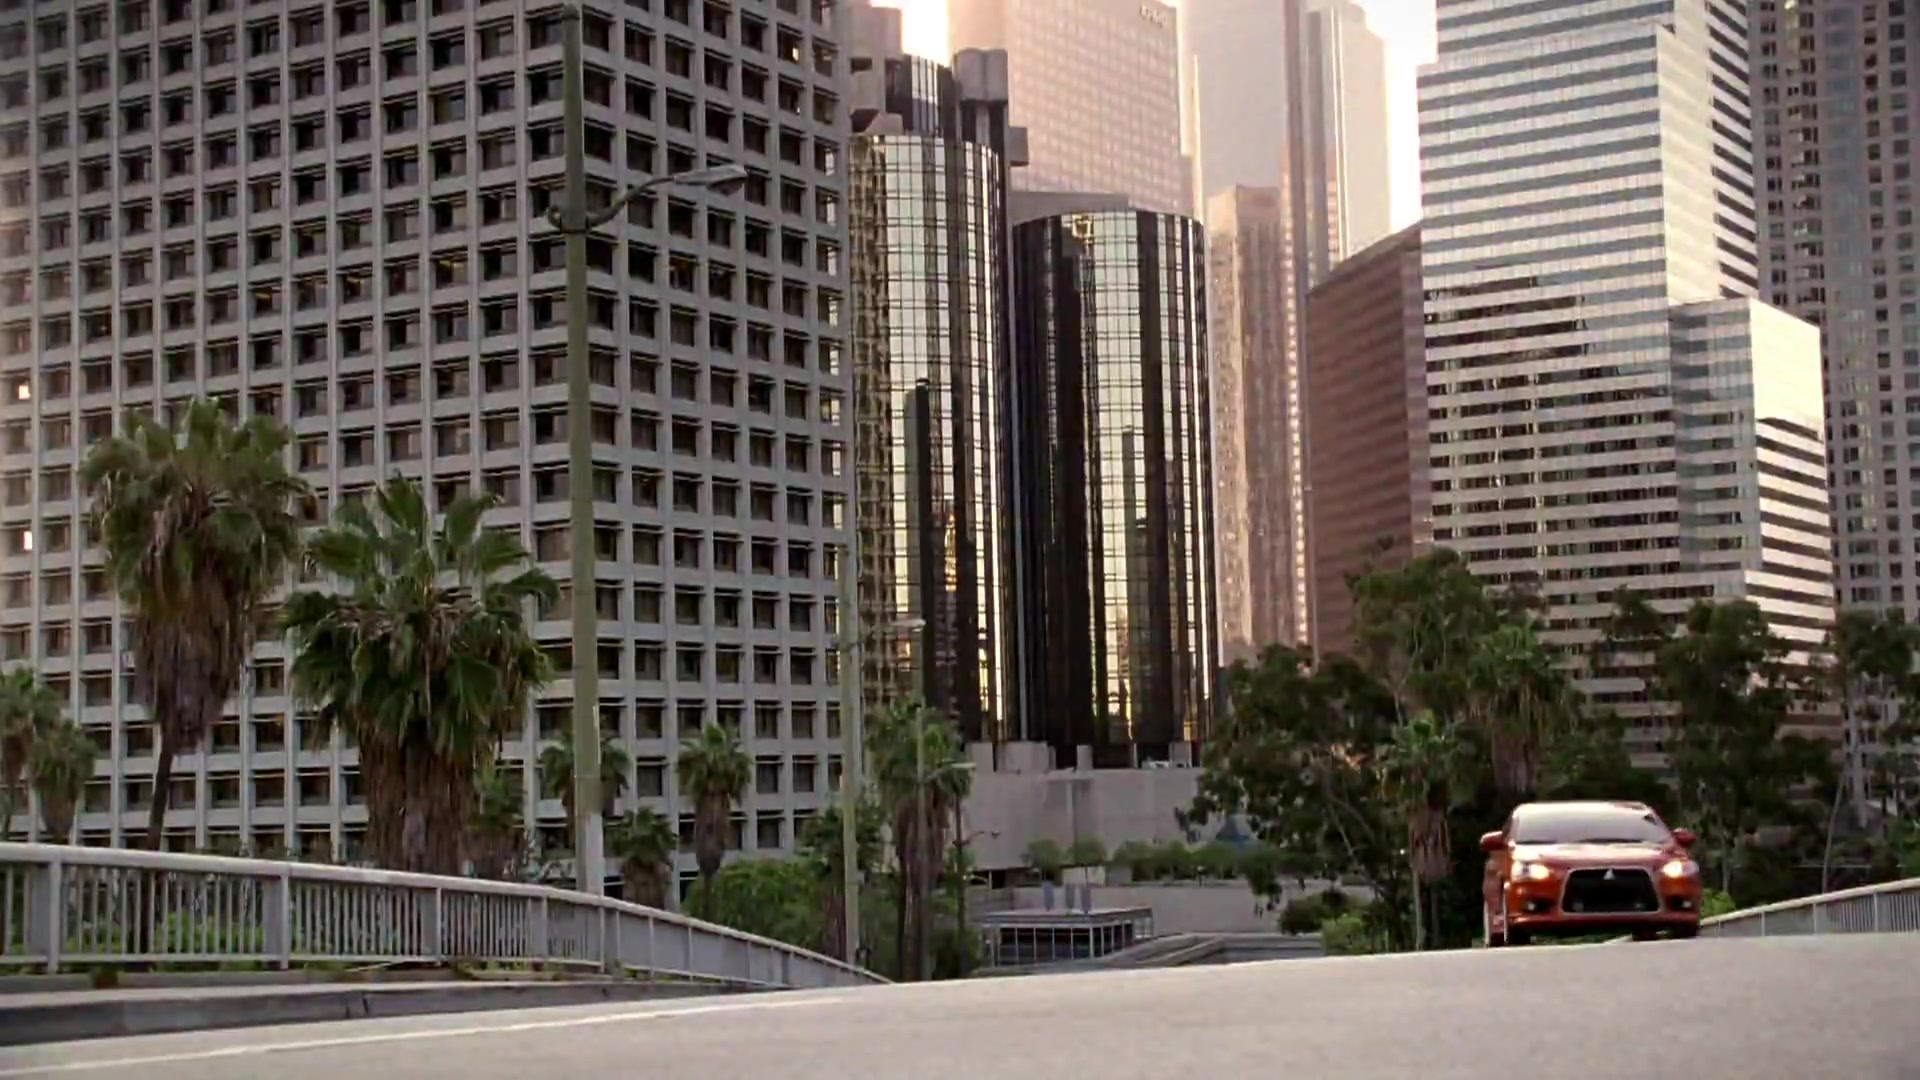car: (1472, 796, 1712, 949)
